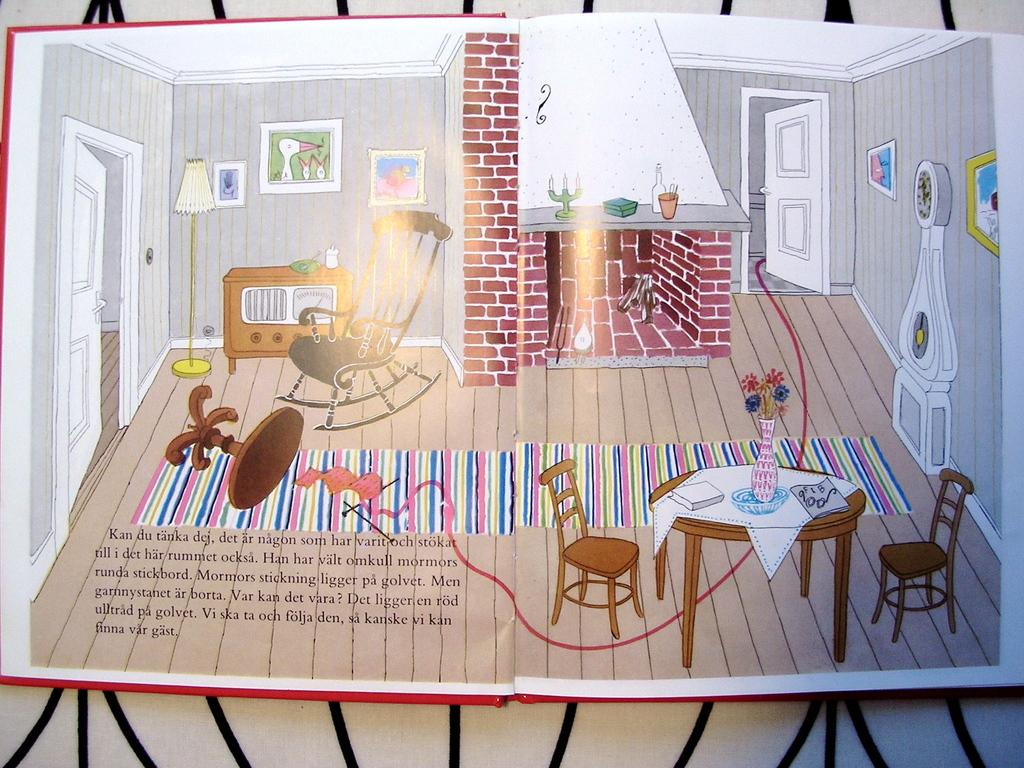Chair: (276, 209, 460, 435), (878, 475, 989, 660), (535, 458, 646, 639)
